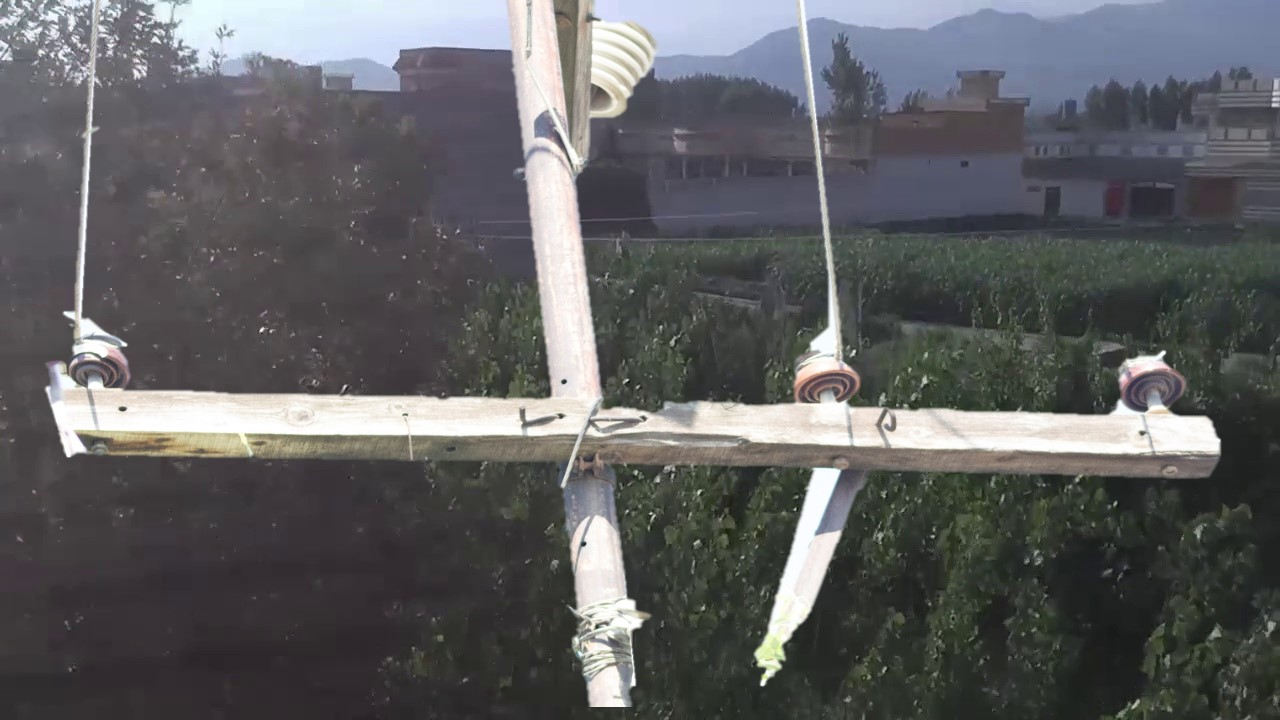defect_pin: (61, 316, 134, 395)
insulator_pin: (1112, 342, 1190, 412), (789, 346, 865, 403)
